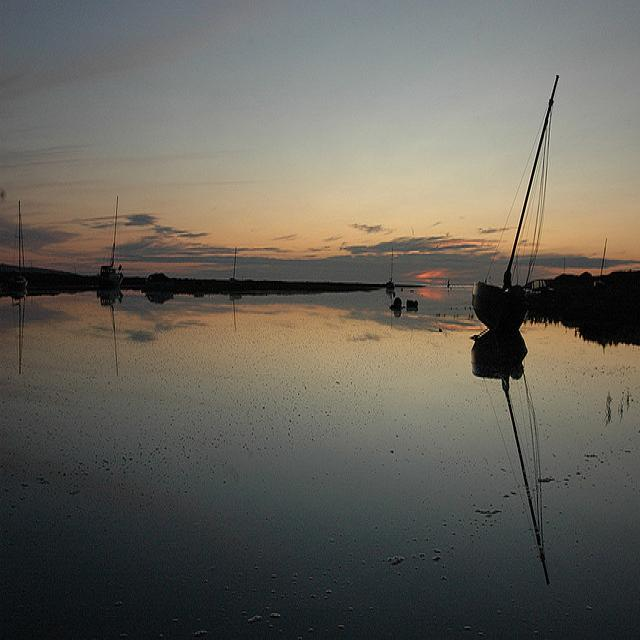Boat: (475, 70, 581, 373), (1, 177, 51, 326), (94, 177, 137, 327), (226, 218, 254, 310), (147, 258, 187, 318)
